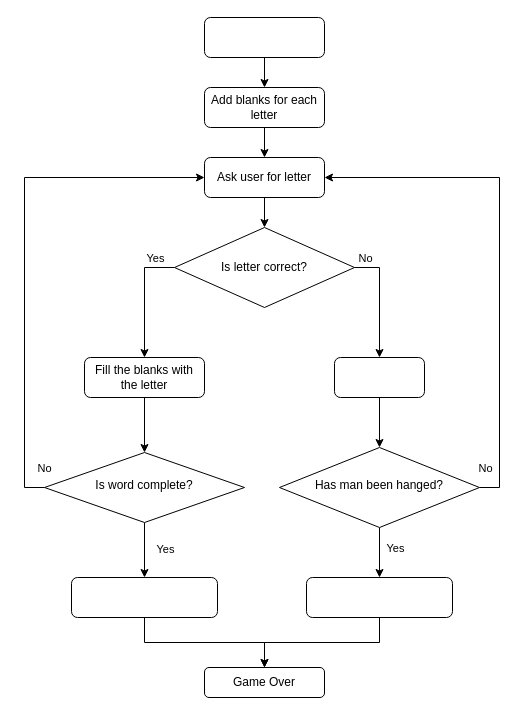
Image size: 525x715. Some labels were removed from this diagram. The shapes that lost their labels are listed below. From the top down, each one's box as (x1, y1, x2, y2) in pixels, then its label:
(204, 16, 324, 58): Generate Word
(334, 356, 424, 398): Lose Life
(70, 576, 218, 618): Stop, display victory message
(306, 576, 452, 618): Stop, display defeat message
